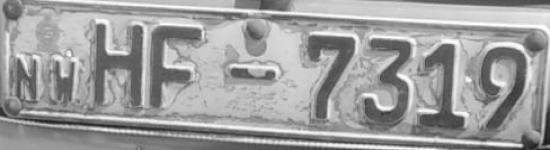-: (224, 60, 280, 85)
1: (420, 33, 474, 133)
3: (361, 32, 420, 126)
4: (11, 51, 42, 106)
7: (298, 29, 361, 122)
9: (474, 32, 537, 133)
F: (150, 17, 209, 116)
H: (90, 16, 147, 112)
W: (49, 52, 83, 108)
